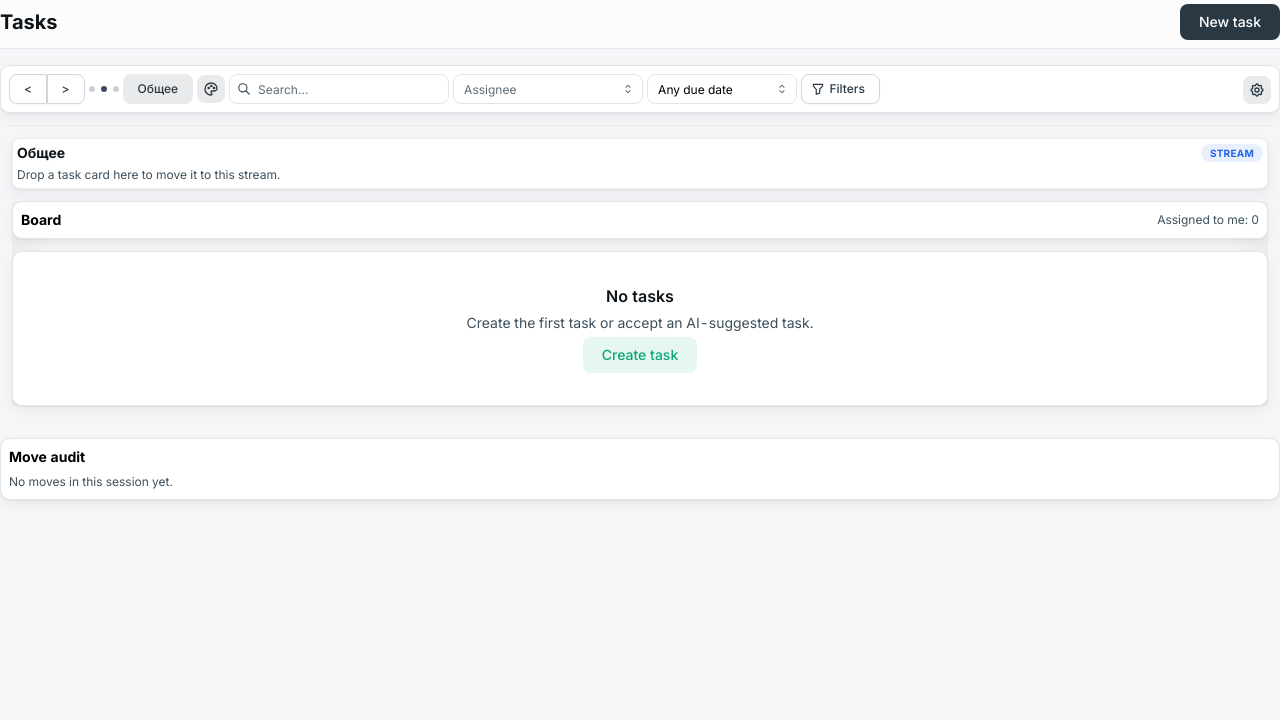
Test: AdminTasksPage workstation behavior › empty board CTA opens the same create modal (setCreateOpened from parent)
Click the button "Create task" at (640, 356), box [583,338,697,374]
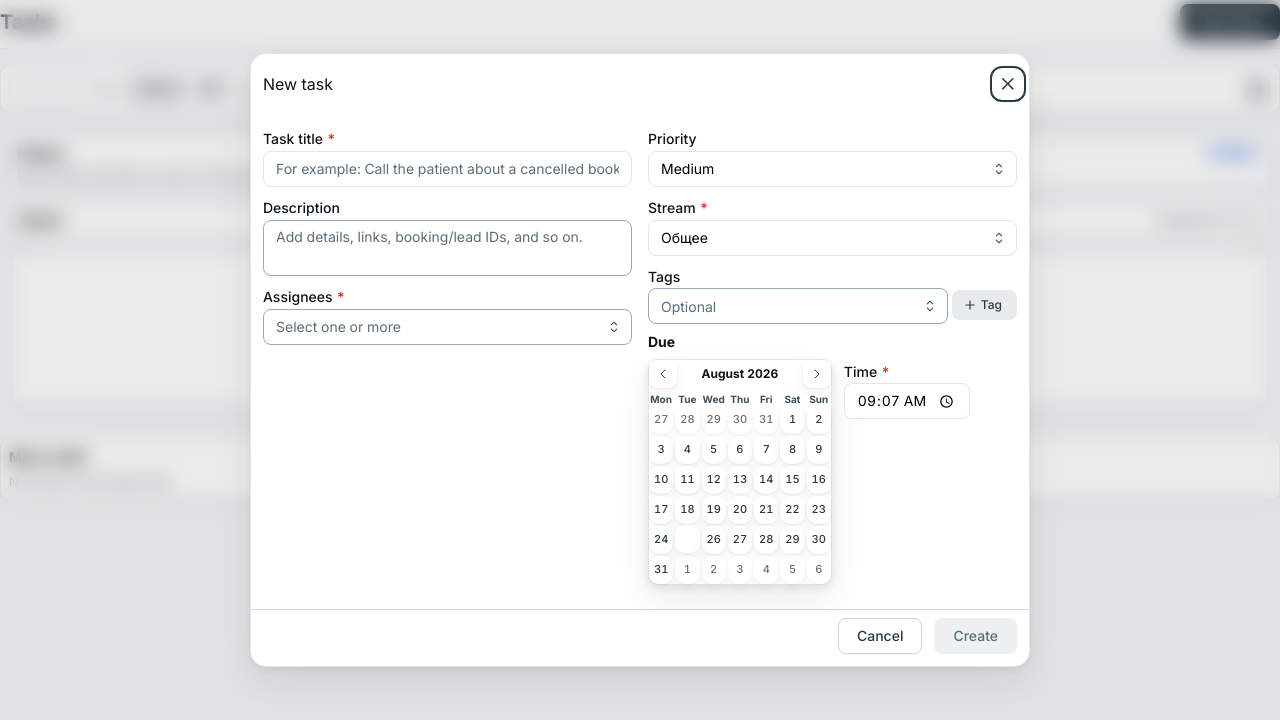
Expected: the button "Create" is shown, [934,618,1017,654]
